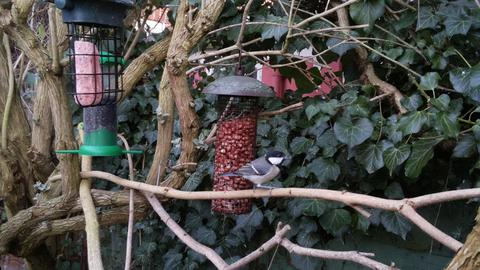great tit: (216, 150, 292, 196)
